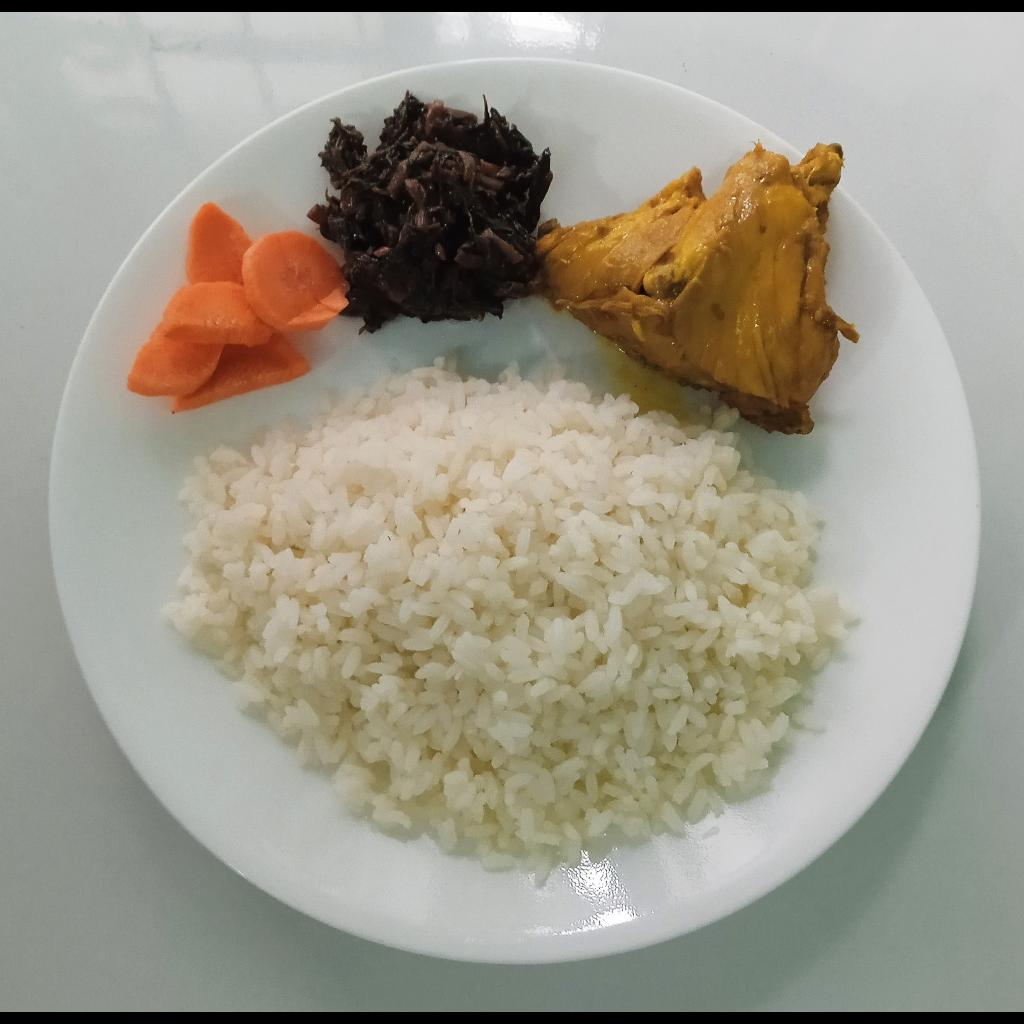carrot: (124, 200, 347, 417)
chicken: (538, 138, 860, 436)
lal-shak: (306, 93, 553, 339)
rice: (158, 357, 862, 884)
